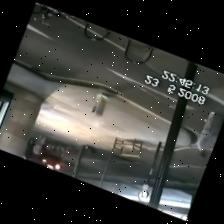person: (197, 111, 223, 156), (34, 134, 46, 155), (25, 138, 36, 158)
